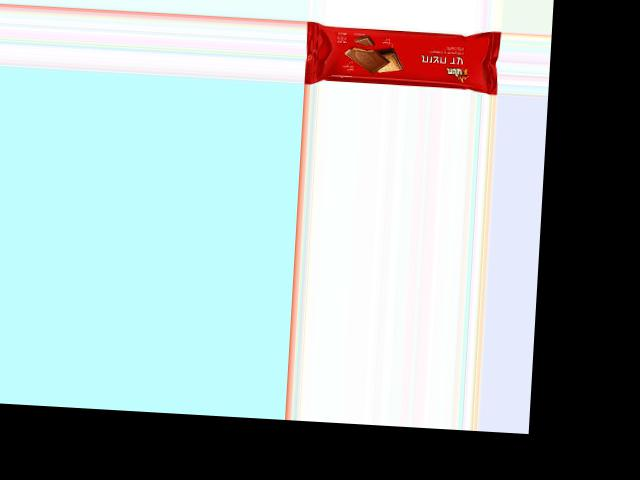chocolate: (306, 19, 496, 94)
